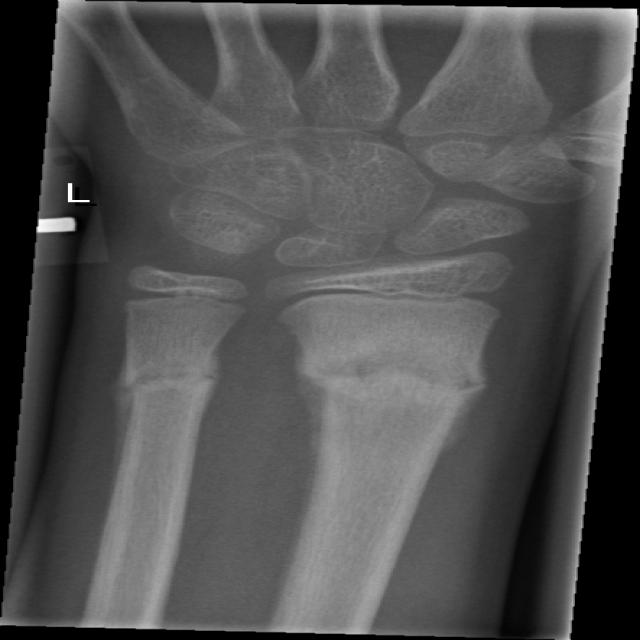radius fracture: (261, 324, 498, 513)
ulna fracture: (99, 318, 262, 485)
